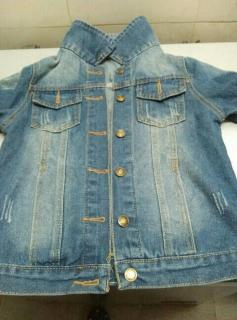long sleeve outwear: (0, 15, 237, 296)
